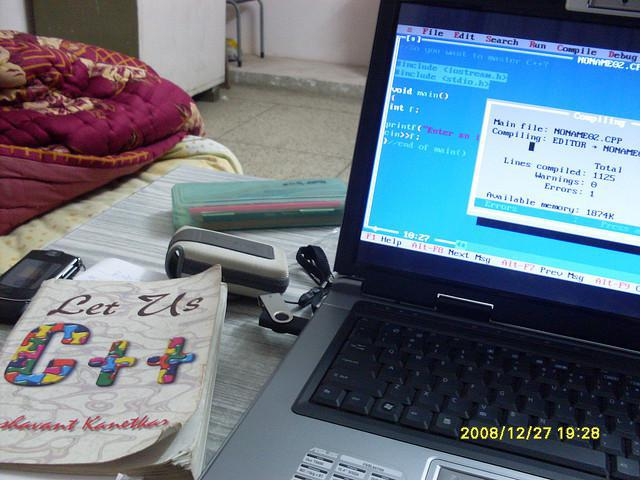tv: (351, 4, 634, 474)
